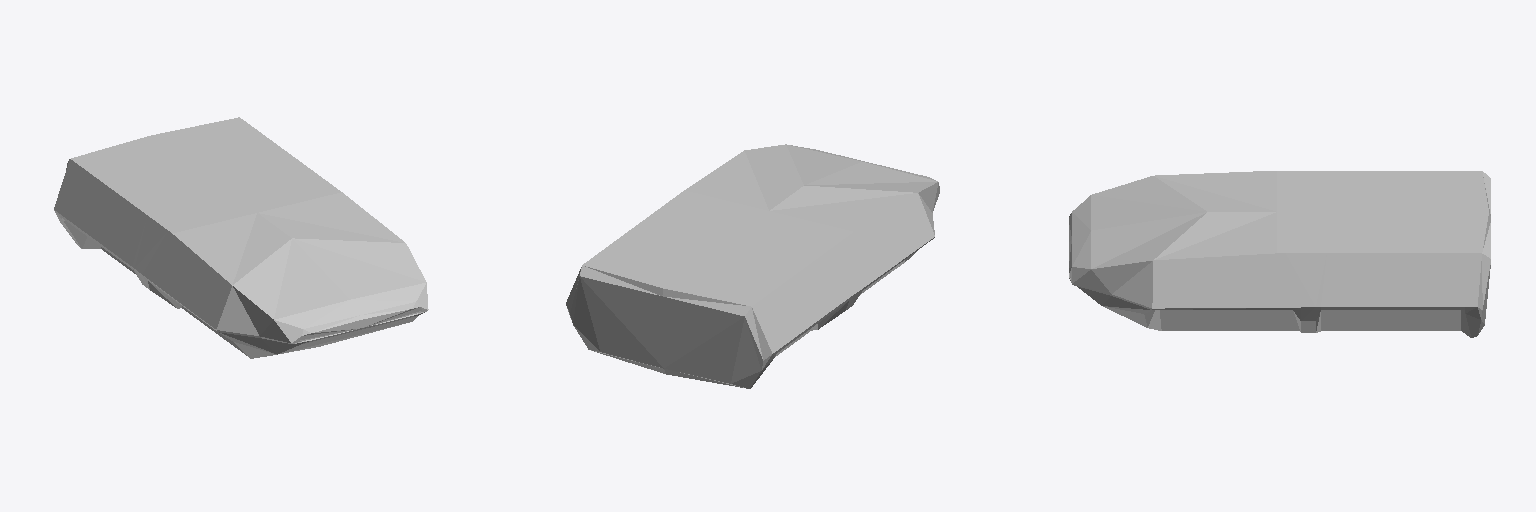
File: lav_cassie.obj
3 views of the same model, side by side, from view 1: azimuth 30°, elevation 25°; view 2: azimuth 150°, elevation 25°; view 3: azimuth 270°, elevation 25° (orthographic).
Parts seen in each view (by area): view 1: chasse.002_Cube.005; view 2: chasse.002_Cube.005; view 3: chasse.002_Cube.005.
Part boxes in pixels (x1,y1,x2,y2): chasse.002_Cube.005: (54,117,428,358); chasse.002_Cube.005: (566,144,939,388); chasse.002_Cube.005: (1069,171,1490,337).
Bounding box in the file's own units: 6.1 × 2.48 × 10.79.